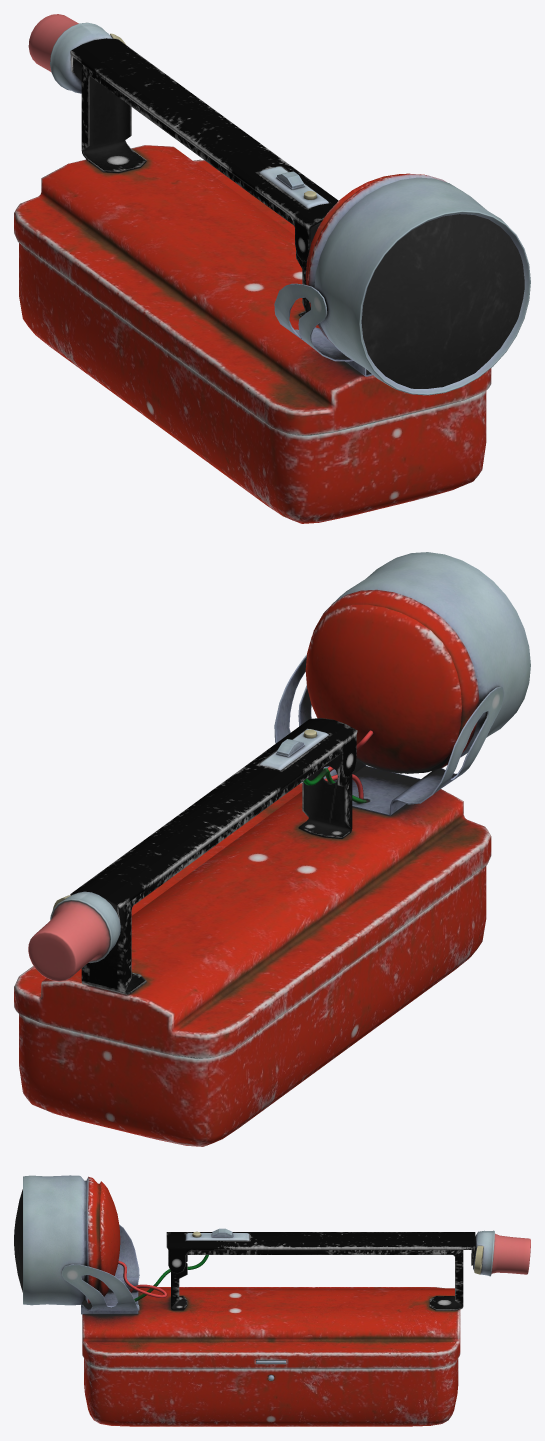
The model's file is vintage_flashlight.glb.
3 views of the same model, one above another, from view 1: azimuth 30°, elevation 25°; view 2: azimuth 150°, elevation 25°; view 3: azimuth 270°, elevation 25° (orthographic). The views are drawn at different scales.
Parts seen in each view (by area): view 1: vintage_flashlight, vintage_flashlight.001; view 2: vintage_flashlight; view 3: vintage_flashlight, vintage_flashlight.001.
Part boxes in pixels (box(x1,y1,x2,y2)): vintage_flashlight: box(14, 14, 530, 523); vintage_flashlight.001: box(361, 214, 524, 388); vintage_flashlight: box(14, 552, 530, 1146); vintage_flashlight: box(23, 1175, 530, 1426); vintage_flashlight.001: box(14, 1189, 22, 1292).
Size of the model in its own units: 0.0959 by 0.1443 by 0.3055.
Materials: 5 (4 with a texture image).
